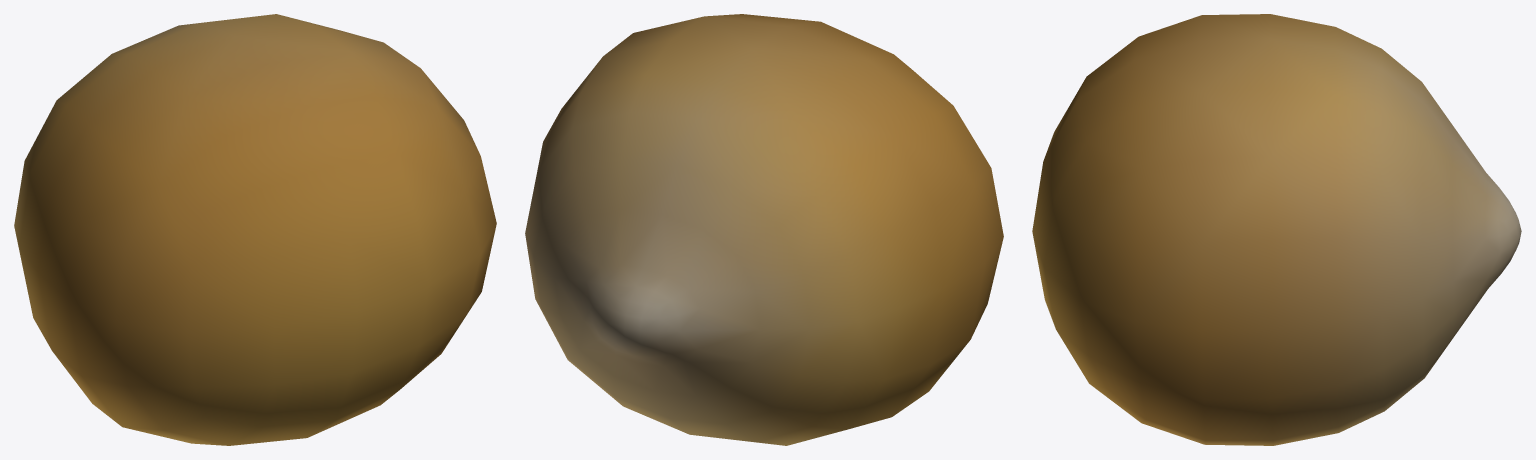
Rendered from trees-seeds-nuts-dried-pea_v3.glb.
3 views of the same model, side by side, from view 1: azimuth 30°, elevation 25°; view 2: azimuth 150°, elevation 25°; view 3: azimuth 270°, elevation 25° (orthographic).
Visible parts, largest first — view 1: Dried Pea_v3; view 2: Dried Pea_v3; view 3: Dried Pea_v3.
Boxes of the visible parts, left/top/right/bottom form: Dried Pea_v3: left=14, top=14, right=496, bottom=445; Dried Pea_v3: left=525, top=14, right=1003, bottom=445; Dried Pea_v3: left=1032, top=14, right=1521, bottom=445.
Size of the model in its own units: 0.7772 by 0.6826 by 0.8.
